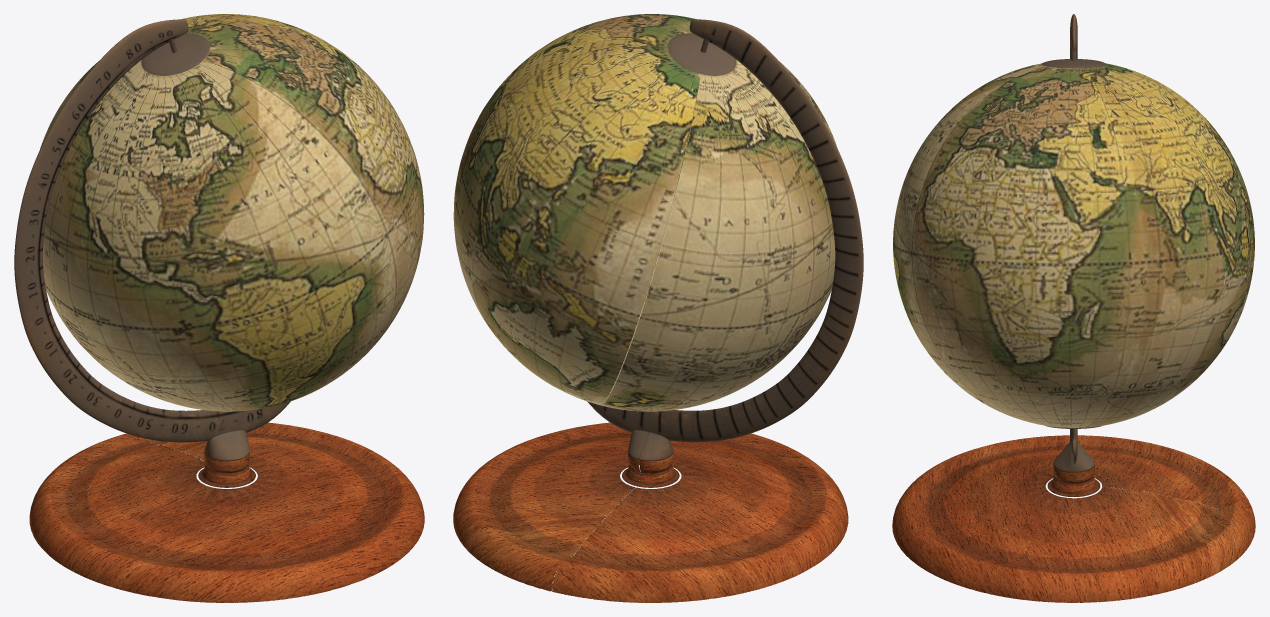
The model's file is Globe_redo.fbx.
3 views of the same model, side by side, from view 1: azimuth 30°, elevation 25°; view 2: azimuth 150°, elevation 25°; view 3: azimuth 270°, elevation 25° (orthographic). The views are drawn at different scales.
Visible parts, largest first — view 1: globe; view 2: globe; view 3: globe.
Boxes of the visible parts, x1=… form: globe: x1=14, y1=14, x2=424, y2=602; globe: x1=453, y1=14, x2=863, y2=602; globe: x1=892, y1=14, x2=1255, y2=602.
Size of the model in its own units: 11.01 by 14.1 by 9.82.
1 material, 1 textured.
